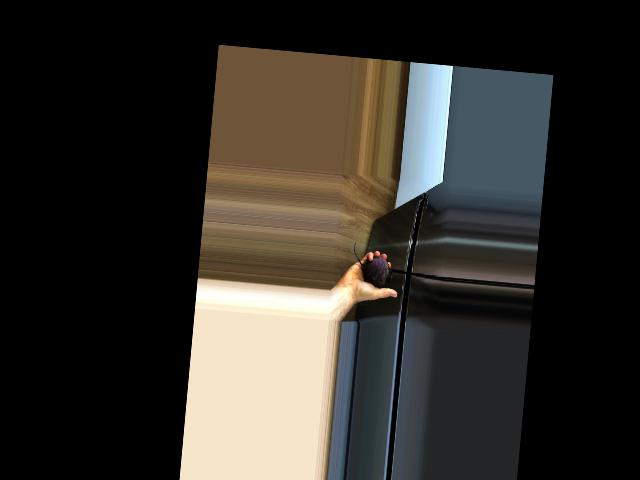beet: (350, 240, 394, 288)
